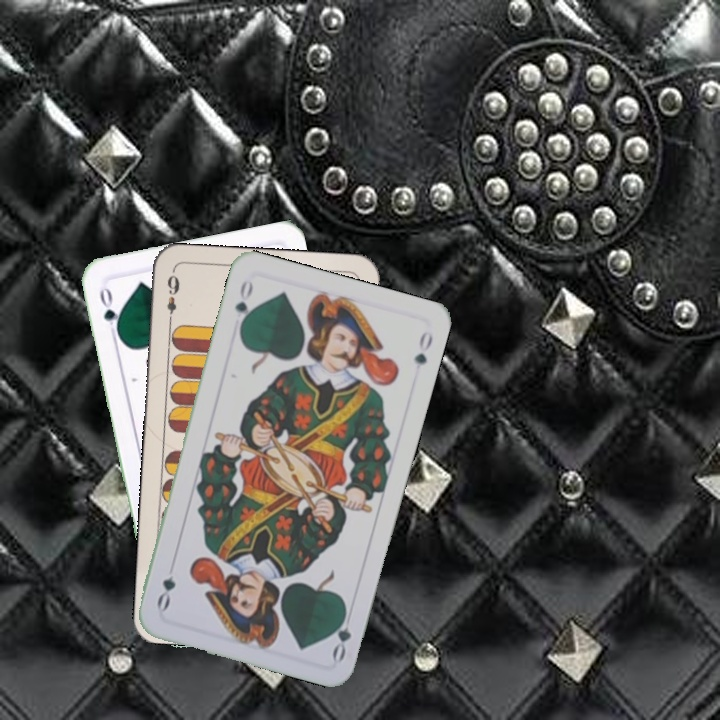E9: (162, 271, 182, 327)
GO: (327, 603, 356, 664), (95, 283, 123, 340), (231, 276, 256, 334)
